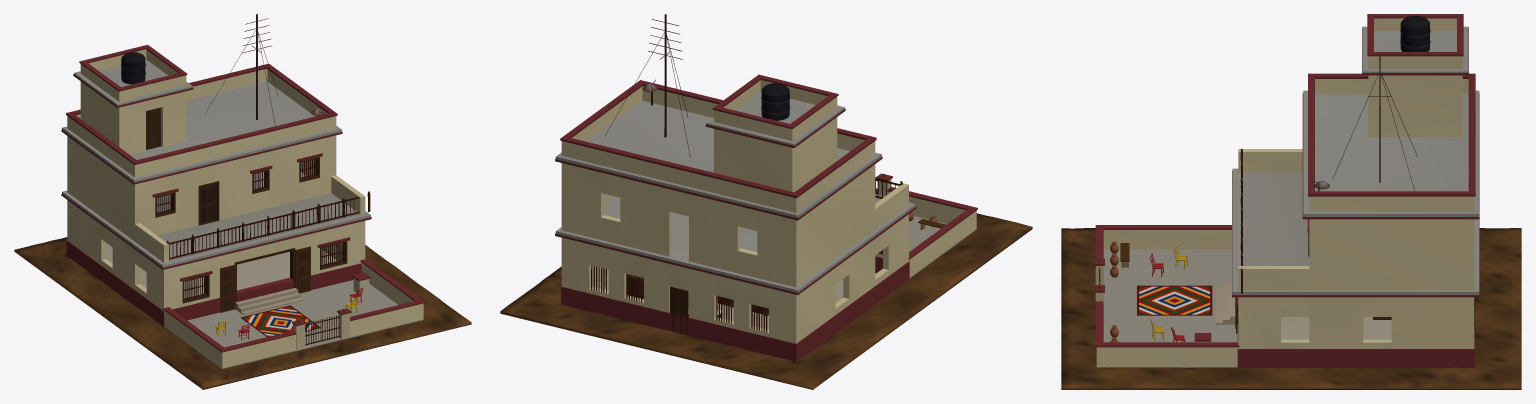
Rendered from tv_house_v2.glb.
3 views of the same model, side by side, from view 1: azimuth 30°, elevation 25°; view 2: azimuth 150°, elevation 25°; view 3: azimuth 270°, elevation 25° (orthographic). The views are drawn at different scales.
Parts seen in each view (by area): view 1: hb_main, hb_metal, hb_props, durrie; view 2: hb_main, hb_metal, hb_props; view 3: hb_main, durrie, hb_metal, hb_props.
Boxes of the visible parts, box(x1,y1,x2,y2) form: hb_main: box(14, 45, 471, 389); hb_metal: box(157, 14, 370, 345); hb_props: box(146, 107, 347, 312); durrie: box(240, 305, 320, 336); hb_main: box(500, 74, 1032, 389); hb_metal: box(591, 14, 902, 332); hb_props: box(627, 219, 945, 335); hb_main: box(1061, 14, 1521, 389); durrie: box(1137, 285, 1212, 315); hb_metal: box(1098, 53, 1474, 329); hb_props: box(1120, 232, 1475, 333).
Bounding box in the file's own units: 16 × 13.38 × 19.5.
4 materials, 1 textured.
